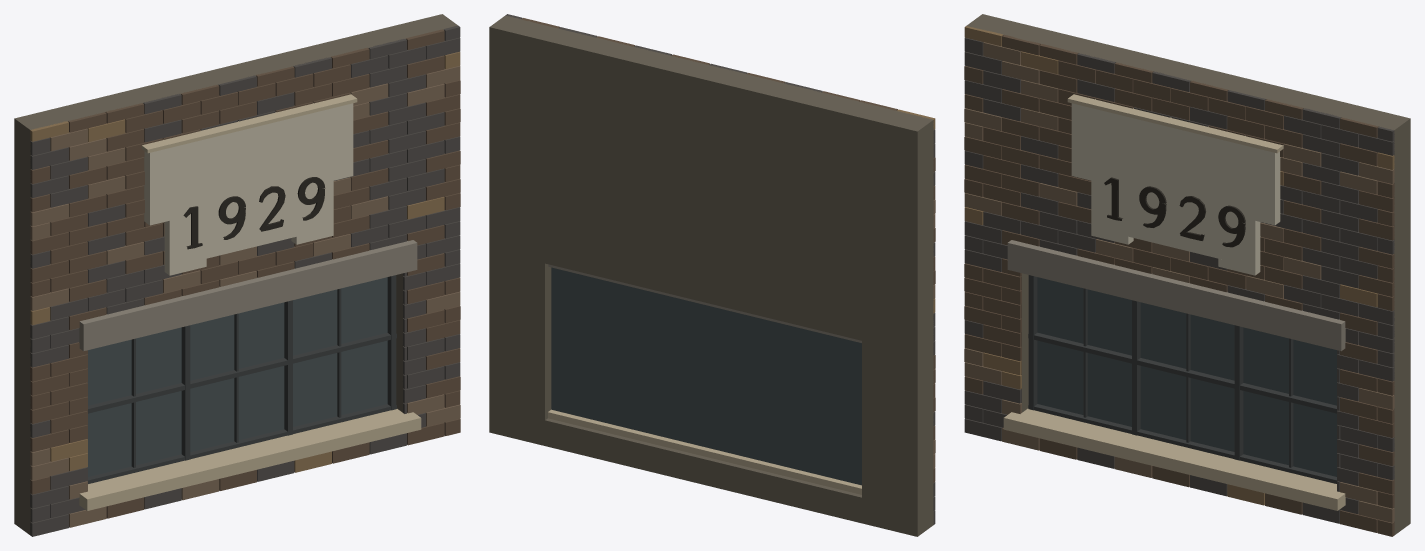
The model's file is huangpu-south-suzhou-warehouse-1929-tablet-web.glb.
3 renders of one model, left to right at view 1: azimuth 30°, elevation 25°; view 2: azimuth 150°, elevation 25°; view 3: azimuth 330°, elevation 25°, orthographic.
Parts seen in each view (by area): view 1: 南苏州路955号仓库临河立面的1929纪年牌与钢窗; view 2: 南苏州路955号仓库临河立面的1929纪年牌与钢窗; view 3: 南苏州路955号仓库临河立面的1929纪年牌与钢窗.
Boxes of the visible parts, bbox=[...] form: 南苏州路955号仓库临河立面的1929纪年牌与钢窗: bbox=[14, 14, 460, 536]; 南苏州路955号仓库临河立面的1929纪年牌与钢窗: bbox=[489, 14, 935, 536]; 南苏州路955号仓库临河立面的1929纪年牌与钢窗: bbox=[964, 14, 1410, 536].
Size of the model in its own units: 4 by 3.62 by 0.418.
